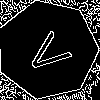V: (22, 25, 80, 79)
